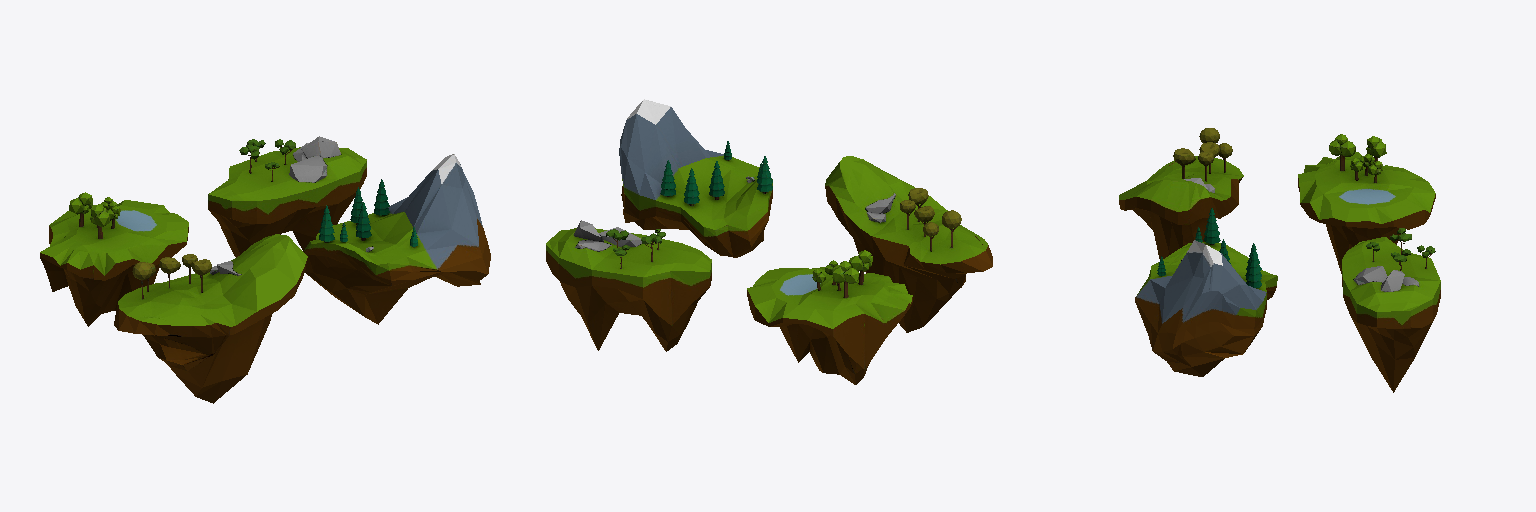
The picture shows the model from 3 angles: view 1: azimuth 30°, elevation 25°; view 2: azimuth 150°, elevation 25°; view 3: azimuth 270°, elevation 25°; orthographic projection.
Parts seen in each view (by area): view 1: Island1FBXASC046001; view 2: Island1FBXASC046001; view 3: Island1FBXASC046001.
Boxes of the visible parts, box(x1,y1,x2,y2) form: Island1FBXASC046001: box(40, 136, 490, 403); Island1FBXASC046001: box(546, 99, 992, 384); Island1FBXASC046001: box(1119, 128, 1440, 392).
Size of the model in its own units: 776 by 369 by 597.
1 materials, 1 textured.